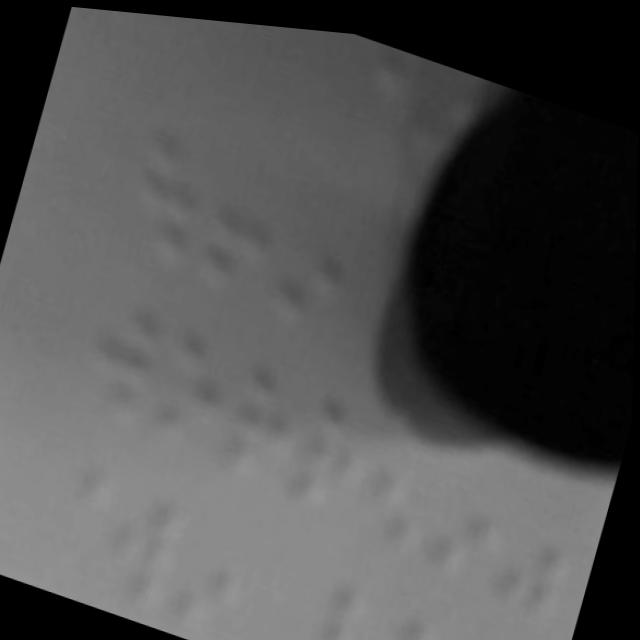braiile: (265, 179, 375, 348), (190, 144, 295, 312), (120, 116, 223, 284), (278, 380, 386, 540), (207, 354, 312, 513), (70, 291, 173, 450), (421, 435, 521, 596), (137, 323, 242, 476), (354, 421, 451, 573), (97, 478, 198, 622)
